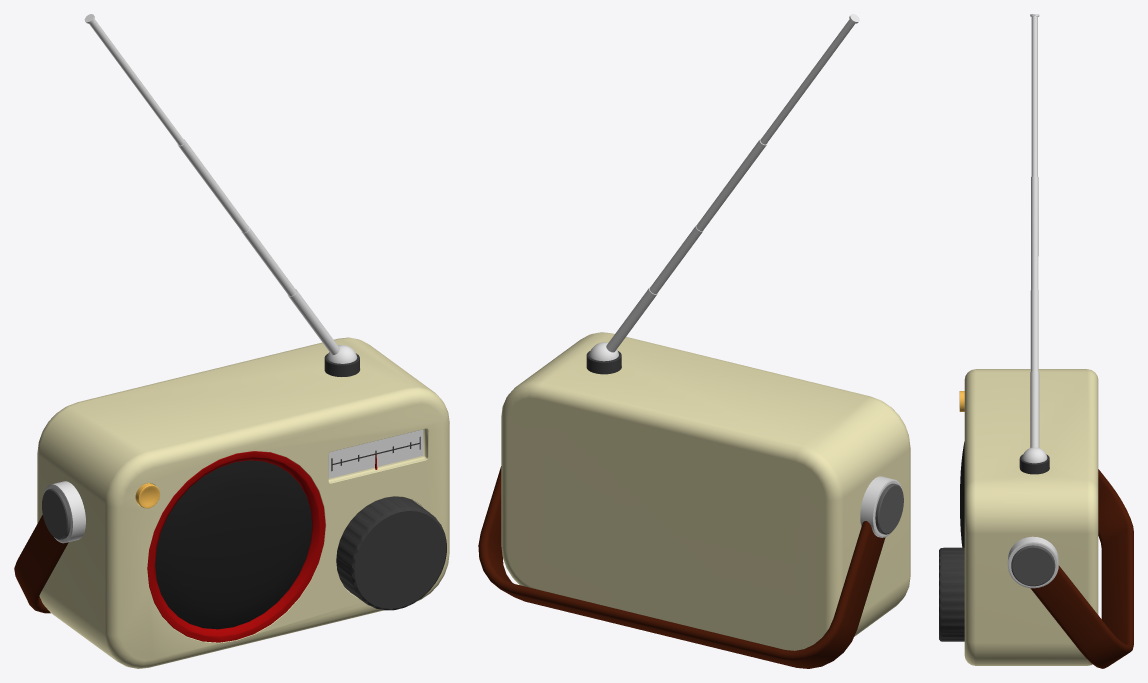
File: Radio.fbx
3 views of the same model, side by side, from view 1: azimuth 30°, elevation 25°; view 2: azimuth 150°, elevation 25°; view 3: azimuth 270°, elevation 25° (orthographic). The views are drawn at different scales.
Visible parts, largest first — view 1: Radio, SpeakerGrill, Cylinder.002, Cube_slice.002, Antena, Handle, Freqs, HandleAncor, HandleConnector; view 2: Radio, Handle, Antena, HandleAncor, HandleConnector; view 3: Radio, Handle, Antena, Cylinder.002, HandleAncor, HandleConnector, SpeakerGrill, Cylinder.004.
Part boxes in pixels (x1,y1,x2,y2): Radio: (37, 337, 449, 668); SpeakerGrill: (155, 460, 312, 629); Cylinder.002: (336, 496, 446, 610); Cube_slice.002: (147, 451, 325, 642); Antena: (84, 14, 357, 363); Handle: (14, 515, 68, 613); Freqs: (328, 429, 423, 478); HandleAncor: (42, 488, 70, 539); HandleConnector: (43, 481, 85, 543); Radio: (501, 332, 910, 650); Handle: (478, 466, 885, 668); Antena: (589, 14, 859, 361); HandleAncor: (875, 483, 903, 534); HandleConnector: (860, 476, 902, 537); Radio: (964, 369, 1098, 665); Handle: (1030, 469, 1133, 668); Antena: (1022, 14, 1047, 463); Cylinder.002: (939, 547, 964, 641); HandleAncor: (1011, 545, 1055, 586); HandleConnector: (1007, 536, 1058, 588); SpeakerGrill: (960, 441, 964, 547); Cylinder.004: (1019, 454, 1049, 474).
Bounding box in the file's own units: 329 × 527 × 175.
